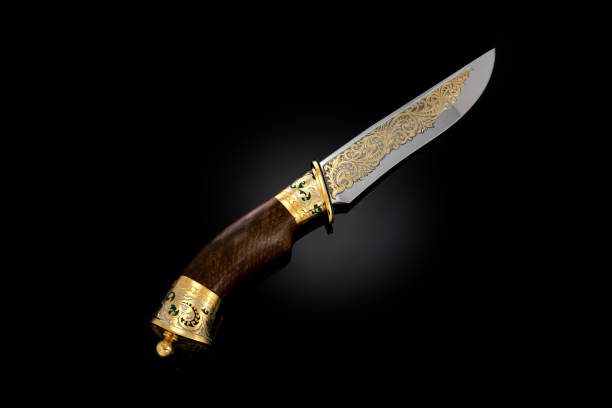knife: (148, 46, 497, 361)
